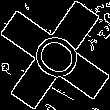O_SE: (22, 23, 88, 87)
